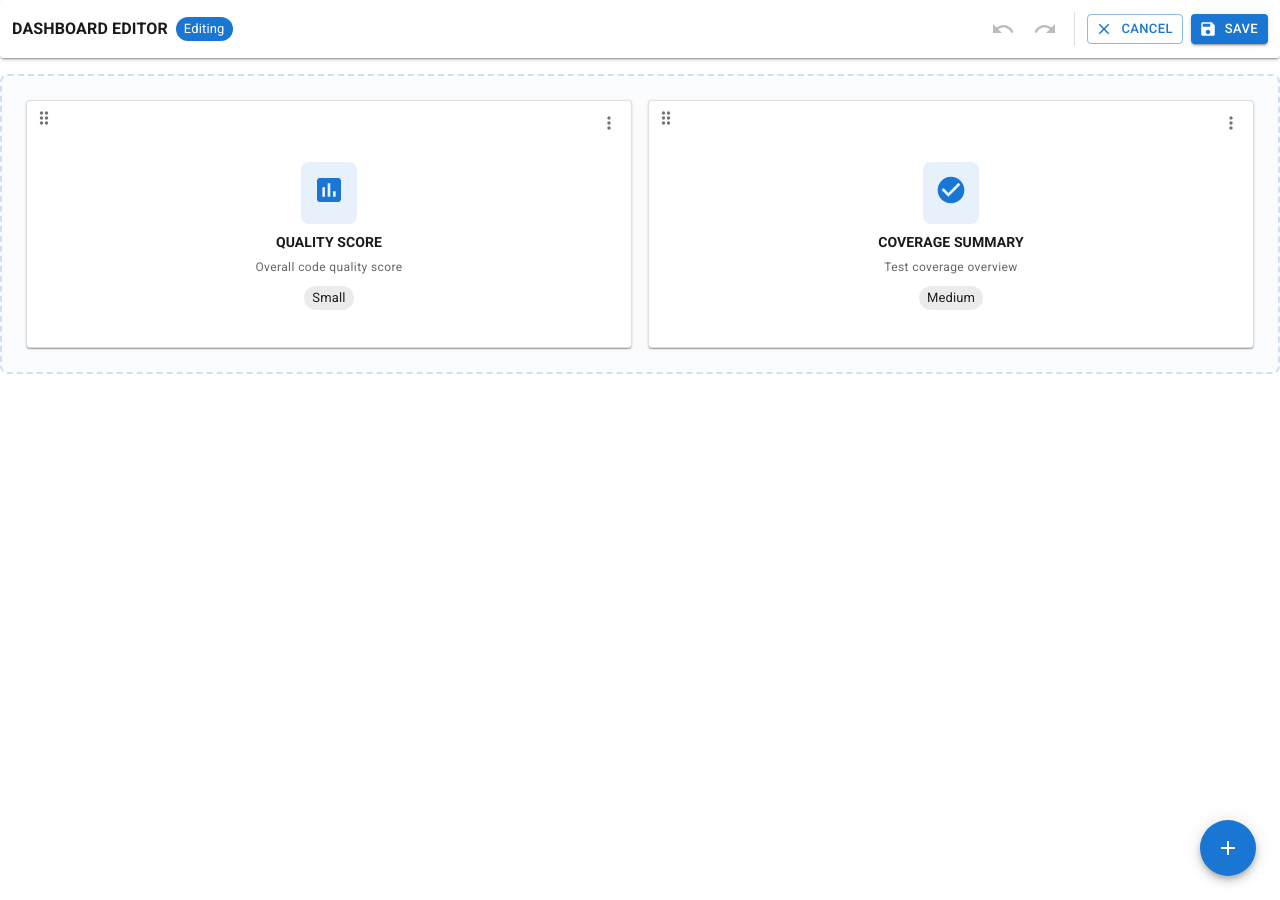
it: Widget Context Menu › should open menu when options button is clicked
This screenshot has width=1280, height=900.
Click the 1st button named "Widget options" at (609, 123), box [594,108,624,138]
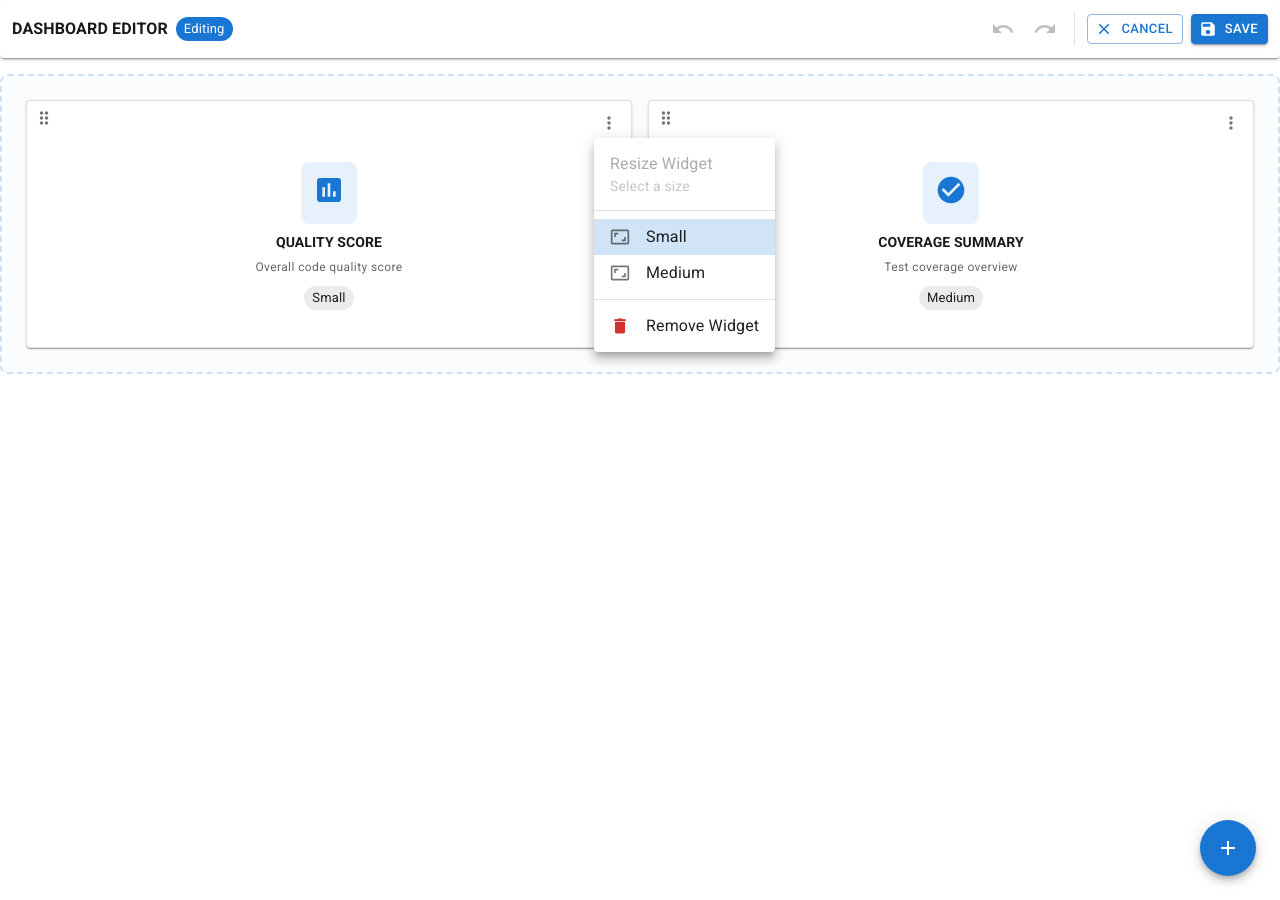
Check: the text "Resize Widget" is shown, box [610,154,712,173]
Check: the text "Remove Widget" is shown, box [646,314,759,338]
